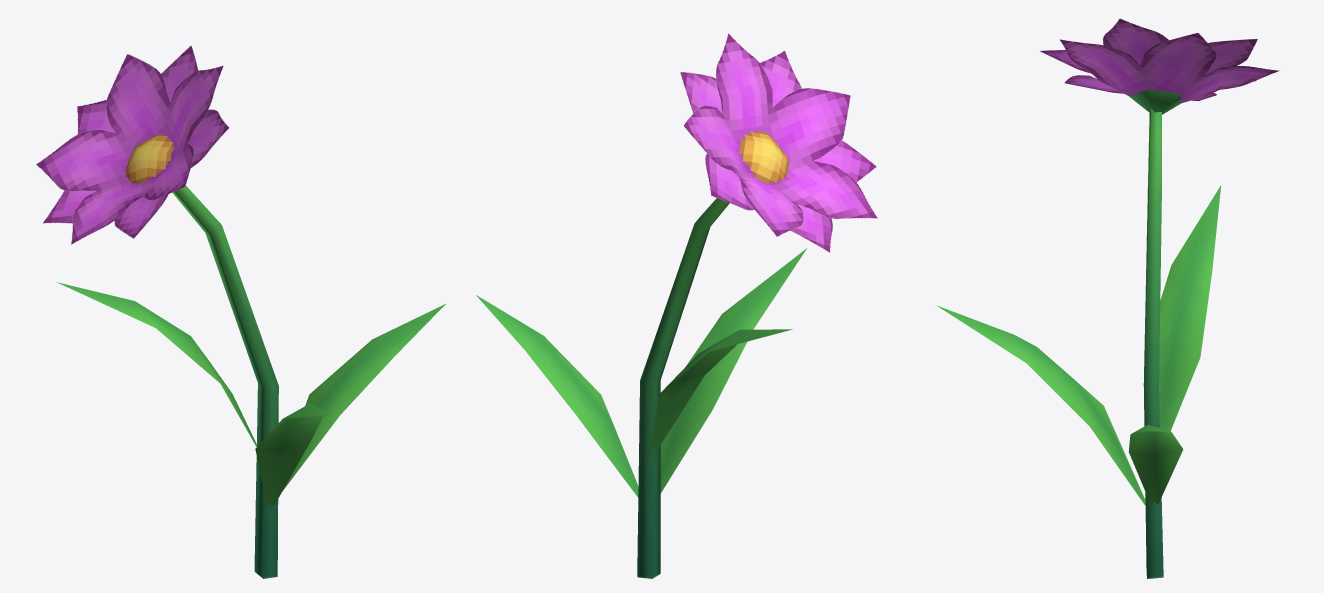
The model's file is Flower_Violet_1.glb.
3 views of the same model, side by side, from view 1: azimuth 30°, elevation 25°; view 2: azimuth 150°, elevation 25°; view 3: azimuth 270°, elevation 25° (orthographic). The views are drawn at different scales.
Parts seen in each view (by area): view 1: Cone.106, Cube.087, Cone.107, object6.079, object6.080, object6.078, Cone.105; view 2: Cone.106, Cube.087, object6.080, Cone.107, object6.079, object6.078, Cone.105; view 3: Cone.107, object6.078, Cube.087, object6.080, Cone.106, object6.079, Cone.108.
Boxes of the visible parts, left/top/right/bottom form: Cone.106: left=36, top=54, right=223, bottom=244; Cube.087: left=172, top=185, right=278, bottom=578; Cone.107: left=42, top=45, right=229, bottom=238; object6.079: left=283, top=304, right=445, bottom=490; object6.080: left=255, top=403, right=332, bottom=506; object6.078: left=57, top=282, right=257, bottom=446; Cone.105: left=125, top=133, right=174, bottom=184; Cone.106: left=683, top=33, right=877, bottom=236; Cube.087: left=637, top=198, right=729, bottom=578; object6.080: left=660, top=248, right=806, bottom=493; Cone.107: left=680, top=50, right=876, bottom=252; object6.079: left=476, top=295, right=638, bottom=497; object6.078: left=648, top=329, right=792, bottom=457; Cone.105: left=739, top=131, right=789, bottom=183; Cone.107: left=1059, top=33, right=1279, bottom=103; object6.078: left=1159, top=185, right=1221, bottom=431; Cube.087: left=1143, top=109, right=1163, bottom=578; object6.080: left=936, top=305, right=1145, bottom=505; Cone.106: left=1039, top=18, right=1257, bottom=81; object6.079: left=1128, top=424, right=1183, bottom=505; Cone.108: left=1129, top=89, right=1180, bottom=114.
Size of the model in its own units: 0.4783 by 0.6293 by 0.3935.
Materials: 4 (4 with a texture image).
